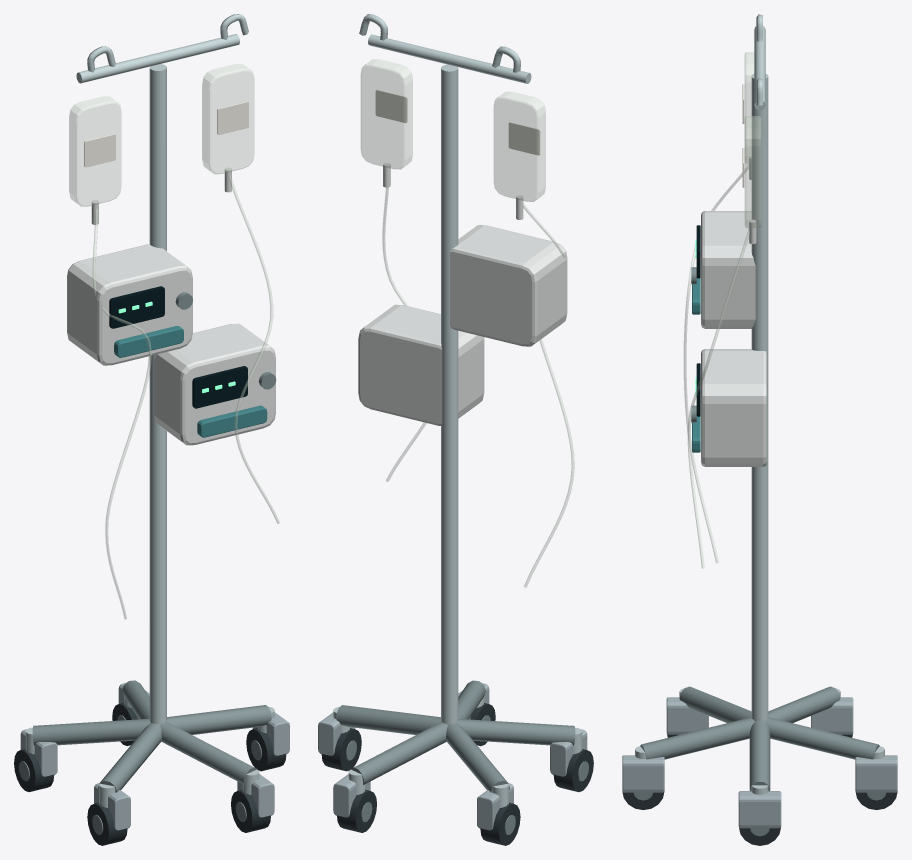
Rendered from infusion.glb.
3 renders of one model, left to right at view 1: azimuth 30°, elevation 25°; view 2: azimuth 150°, elevation 25°; view 3: azimuth 270°, elevation 25°, orthographic.
Parts seen in each view (by area): view 1: infusion-batch (×8), fluid-bag (×2), infusion; view 2: infusion-batch (×6), fluid-bag (×2), infusion; view 3: infusion-batch (×7), fluid-bag (×2), infusion.
Boxes of the visible parts, x1=… form: infusion-batch (×8): x1=14, y1=14, x2=289, y2=845; fluid-bag (×2): x1=69, y1=64, x2=254, y2=206; infusion: x1=92, y1=177, x2=279, y2=619; infusion-batch (×6): x1=318, y1=14, x2=593, y2=845; fluid-bag (×2): x1=361, y1=59, x2=545, y2=201; infusion: x1=382, y1=187, x2=574, y2=587; infusion-batch (×7): x1=622, y1=14, x2=897, y2=845; fluid-bag (×2): x1=745, y1=52, x2=760, y2=227; infusion: x1=684, y1=164, x2=749, y2=568.
Size of the model in its own units: 0.5268 by 1.75 by 0.5845.
